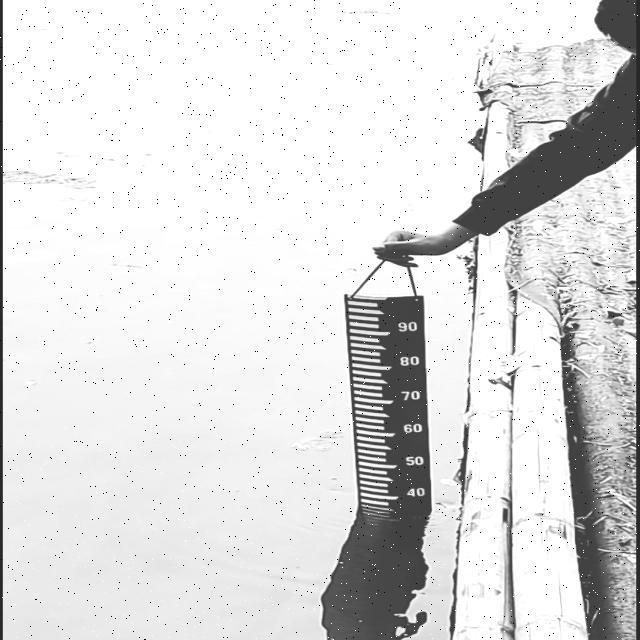40: (406, 486, 426, 498)
50: (404, 454, 424, 468)
60: (402, 420, 426, 436)
70: (401, 389, 422, 402)
80: (399, 353, 421, 368)
90: (396, 319, 418, 333)
staff: (346, 293, 430, 510)
